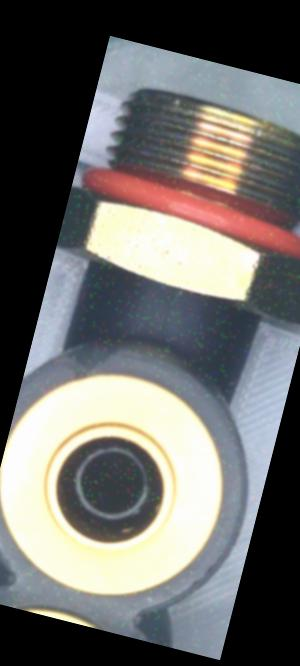bump: (62, 331, 121, 381)
joint line: (149, 285, 181, 348)
